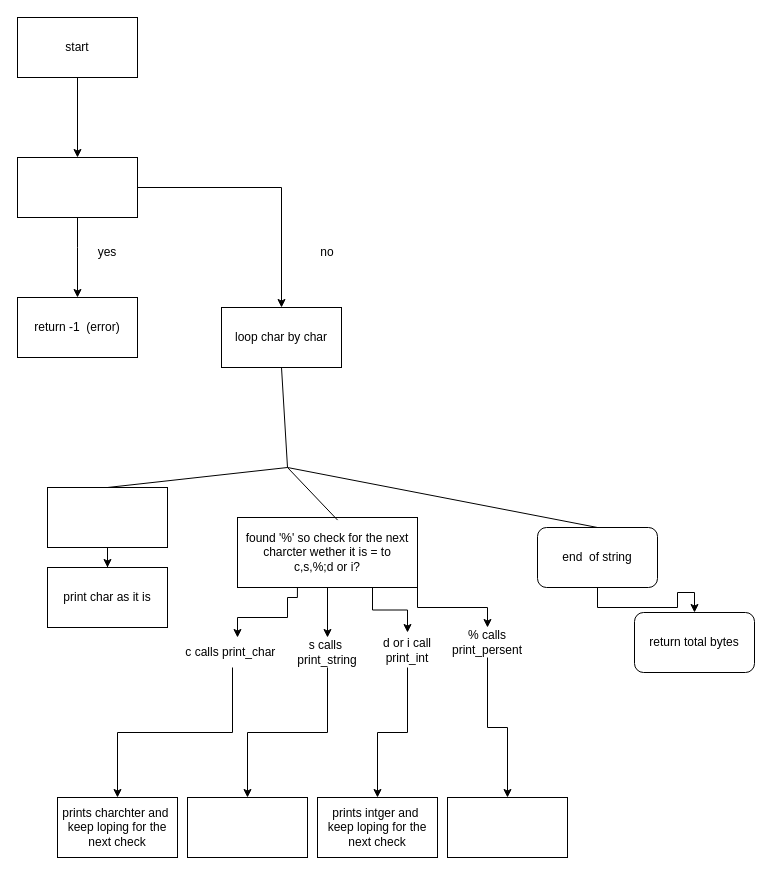
The diagram is 772 pixels wide and 875 high, and some of its shapes have lost their labels. Each missing label, with the centre of its shape:
"char != '%'" goes at pixel 107 517.
"format == NULL?" goes at pixel 77 187.
"prints % and keep loping for the next check" goes at pixel 507 827.
"prints string and keep loping for the next check" goes at pixel 247 827.
